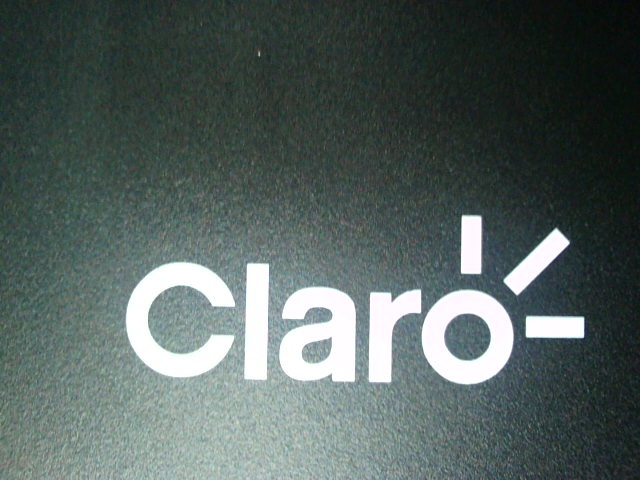BC_Claor: (120, 194, 584, 396)
